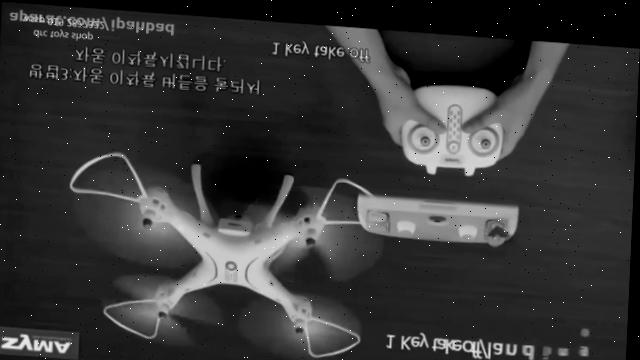drone: (62, 146, 392, 357)
